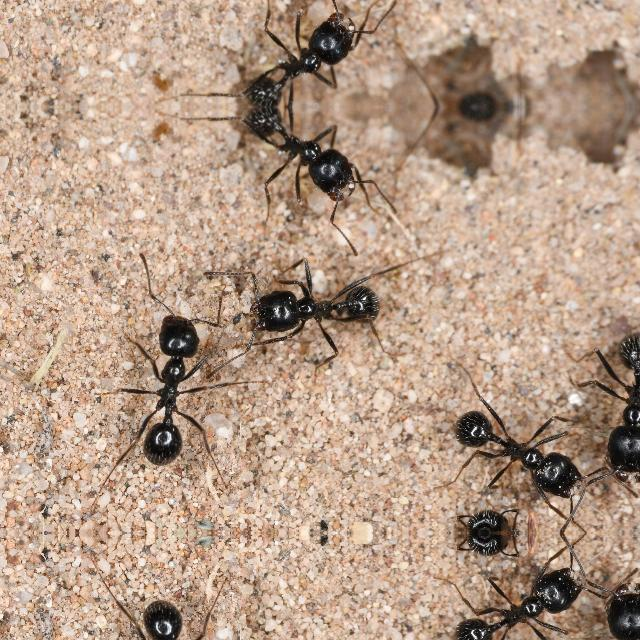Messor: (432, 394, 600, 502), (114, 302, 220, 473), (235, 105, 385, 222), (235, 0, 385, 106), (239, 260, 387, 354), (432, 562, 600, 640), (589, 312, 639, 478), (114, 590, 219, 640), (589, 585, 639, 640), (452, 504, 518, 532), (452, 532, 518, 560)
